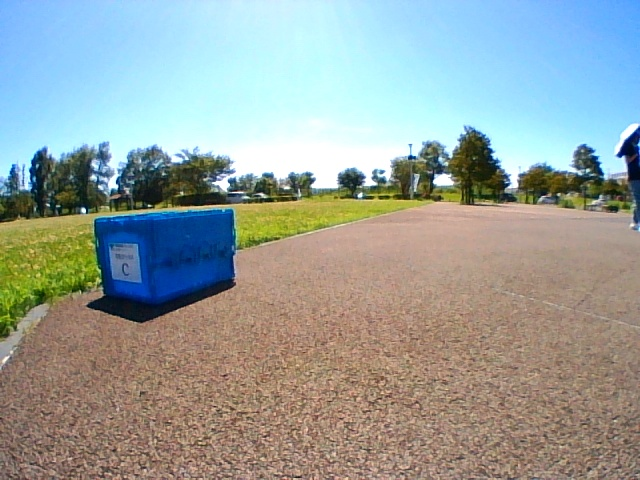blue_box: (95, 210, 236, 303)
tag_c: (113, 244, 138, 281)
